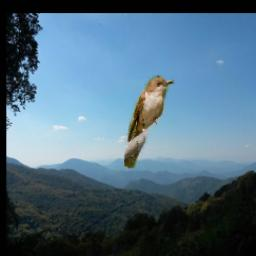Cuckoo: (124, 76, 175, 169)
